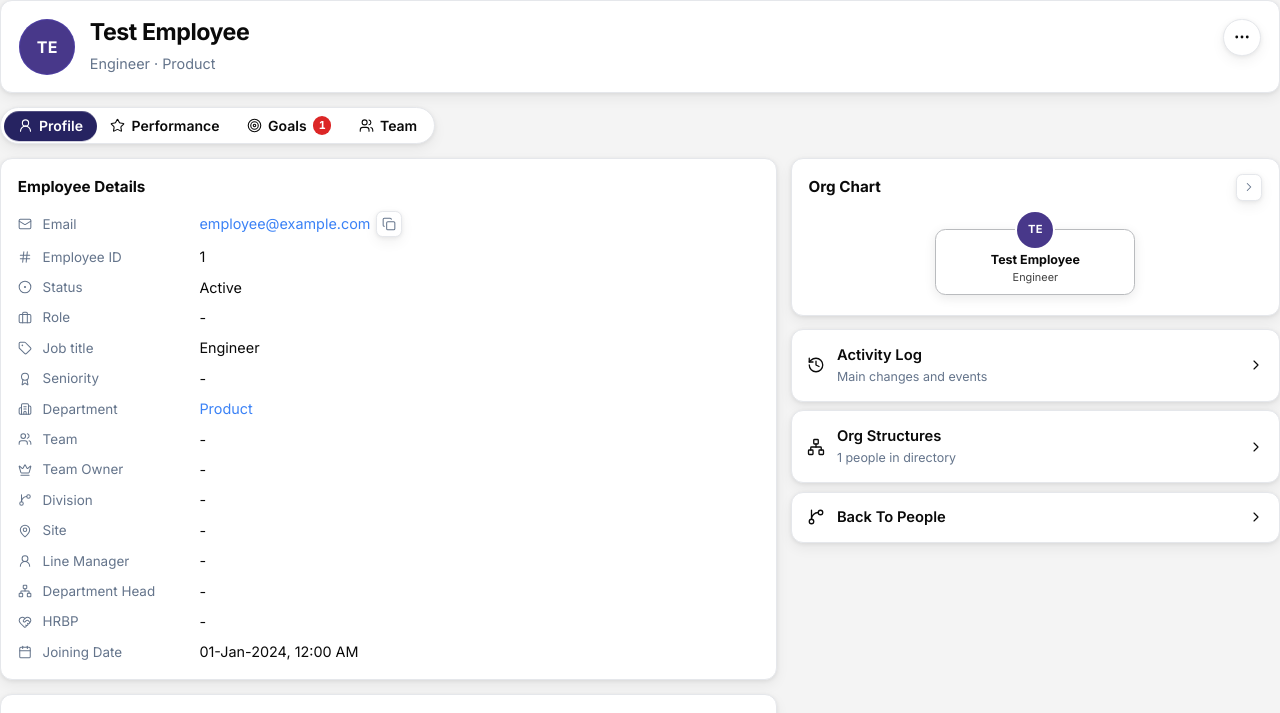
Test: V1 employee profiles › shows scorecards on the Performance tab
This screenshot has width=1280, height=713.
Click the button "Performance".
click(165, 126)  # box x1=96 y1=111 x2=233 y2=140
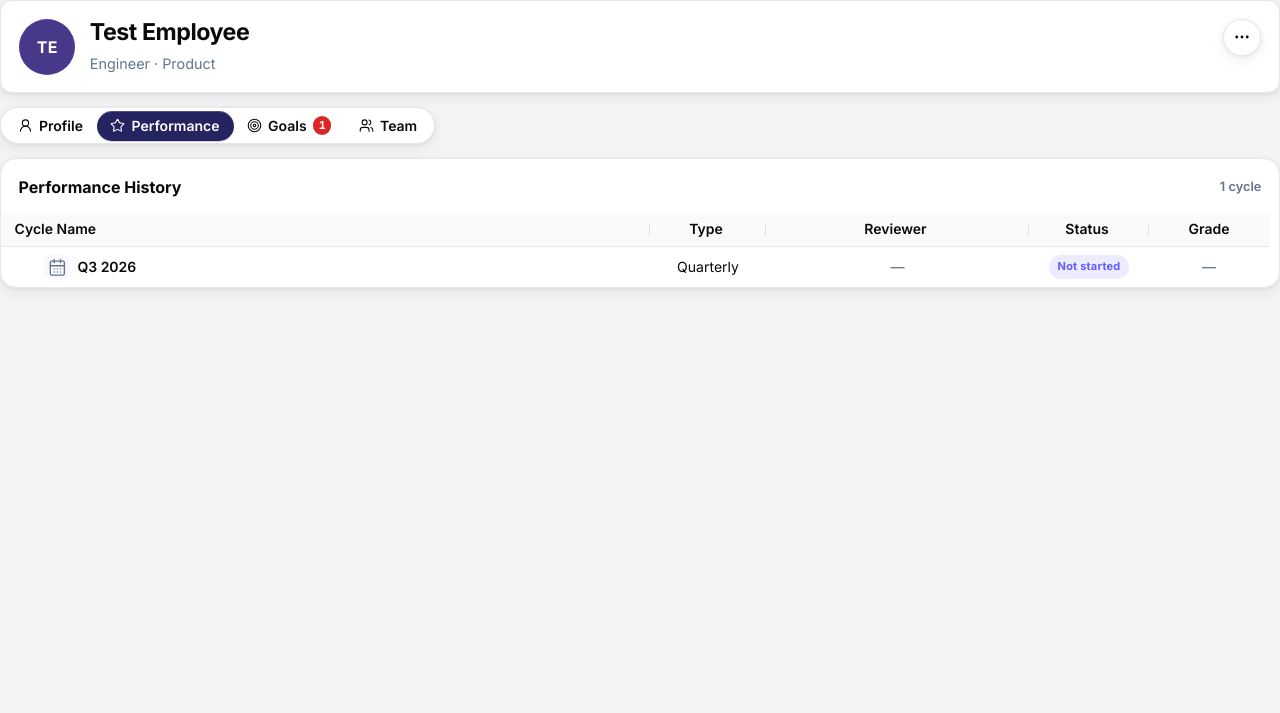
Result: the heading "Performance History" is shown at x1=19 y1=175 x2=181 y2=199
Result: the link "Q3 2026" is shown at x1=44 y1=254 x2=136 y2=280
